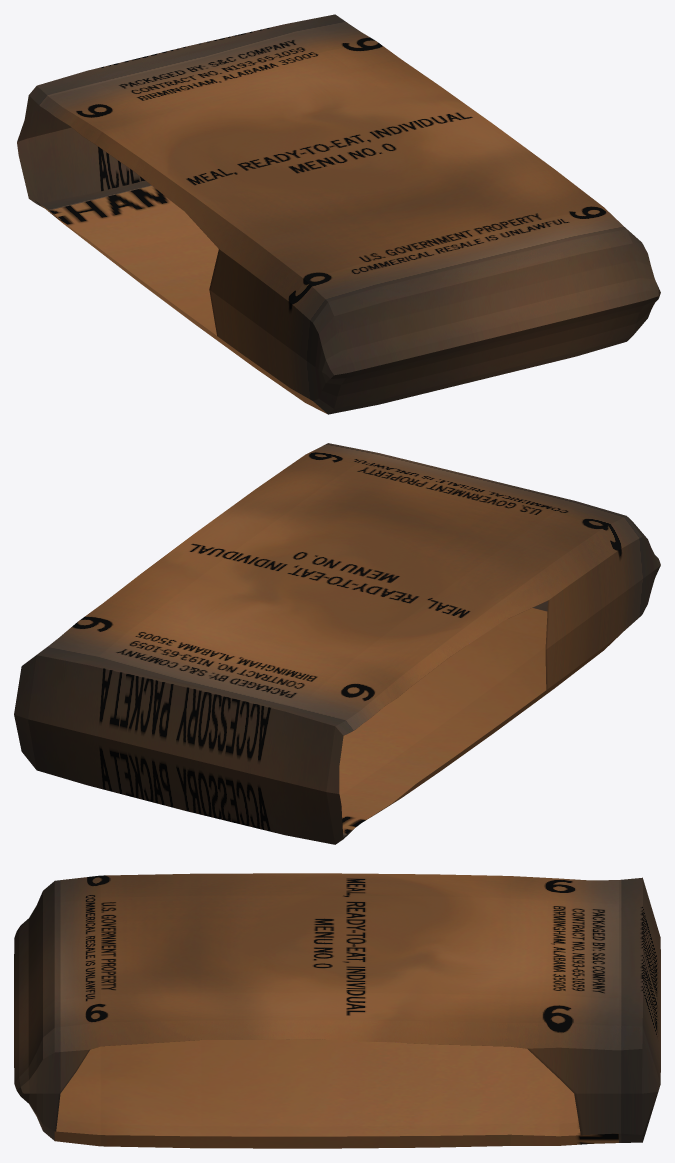
File: MRE.fbx
3 views of the same model, one above another, from view 1: azimuth 30°, elevation 25°; view 2: azimuth 150°, elevation 25°; view 3: azimuth 270°, elevation 25° (orthographic).
Parts seen in each view (by area): view 1: Cube.001; view 2: Cube.001; view 3: Cube.001.
Boxes of the visible parts, box(x1,y1,x2,y2) form: Cube.001: box(17, 14, 660, 414); Cube.001: box(14, 443, 660, 844); Cube.001: box(14, 873, 660, 1148).
Bounding box in the file's own units: 0.1454 × 0.0549 × 0.2403.
